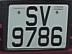6: (50, 25, 63, 48)
7: (24, 25, 38, 49)
8: (37, 26, 50, 48)
9: (11, 26, 25, 48)
S: (24, 7, 40, 27)
V: (38, 5, 53, 28)
